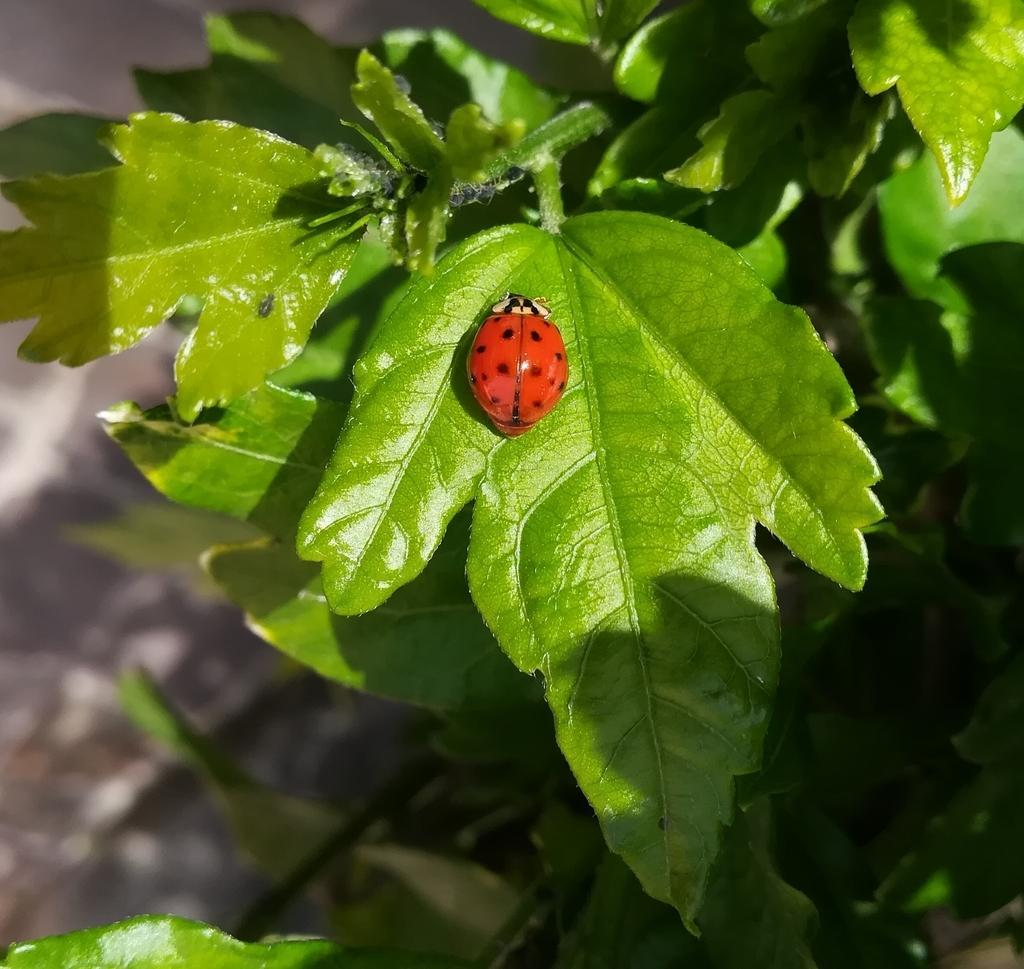ladybug: (466, 287, 572, 441)
